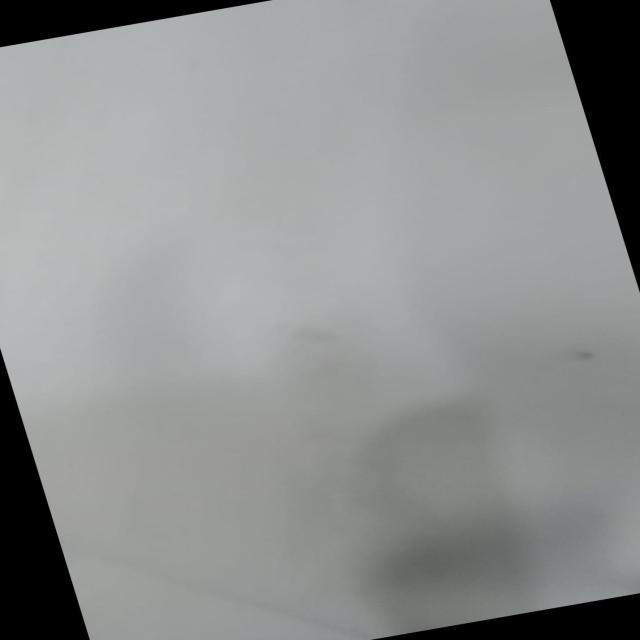stain: (302, 385, 567, 640), (258, 316, 349, 392), (550, 330, 622, 380)
